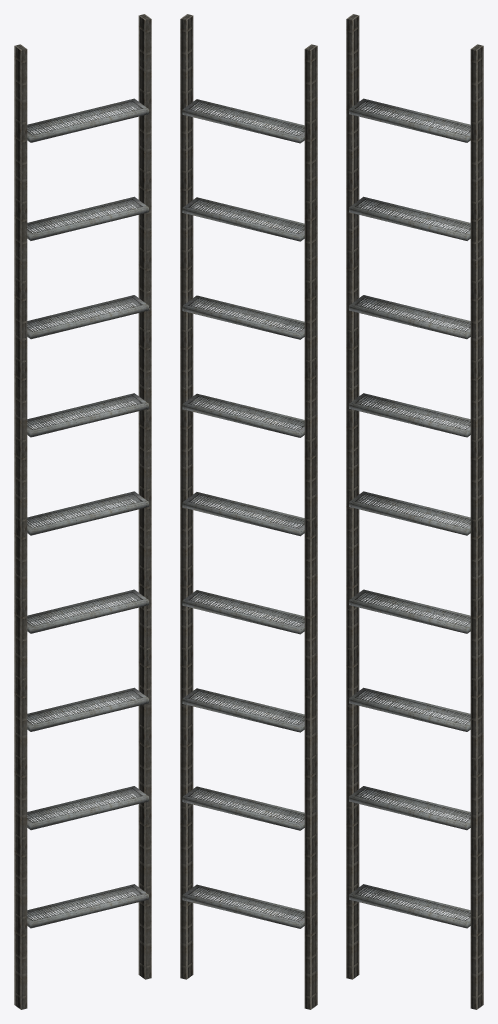
Rendered from ladder.fbx.
The picture shows the model from 3 angles, left to right: view 1: azimuth 30°, elevation 25°; view 2: azimuth 150°, elevation 25°; view 3: azimuth 330°, elevation 25°; orthographic projection.
Parts seen in each view (by area): view 1: Mesh; view 2: Mesh; view 3: Mesh.
Part boxes in pixels (left/top/right/bottom): Mesh: left=14, top=14, right=151, bottom=1009; Mesh: left=180, top=14, right=317, bottom=1009; Mesh: left=346, top=14, right=483, bottom=1009.
Bounding box in the file's own units: 38.89 × 274 × 7.44.
